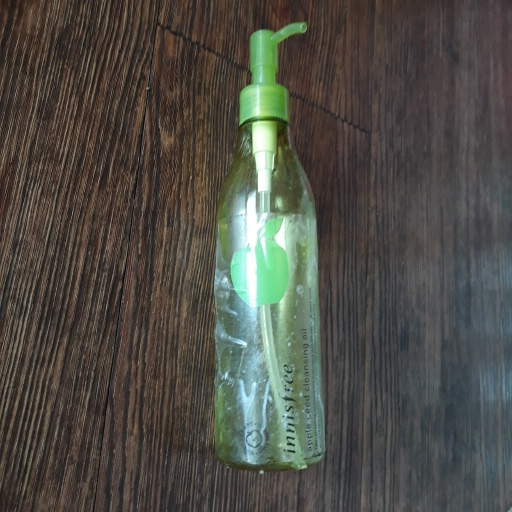Plastic_3: (200, 17, 334, 468)
